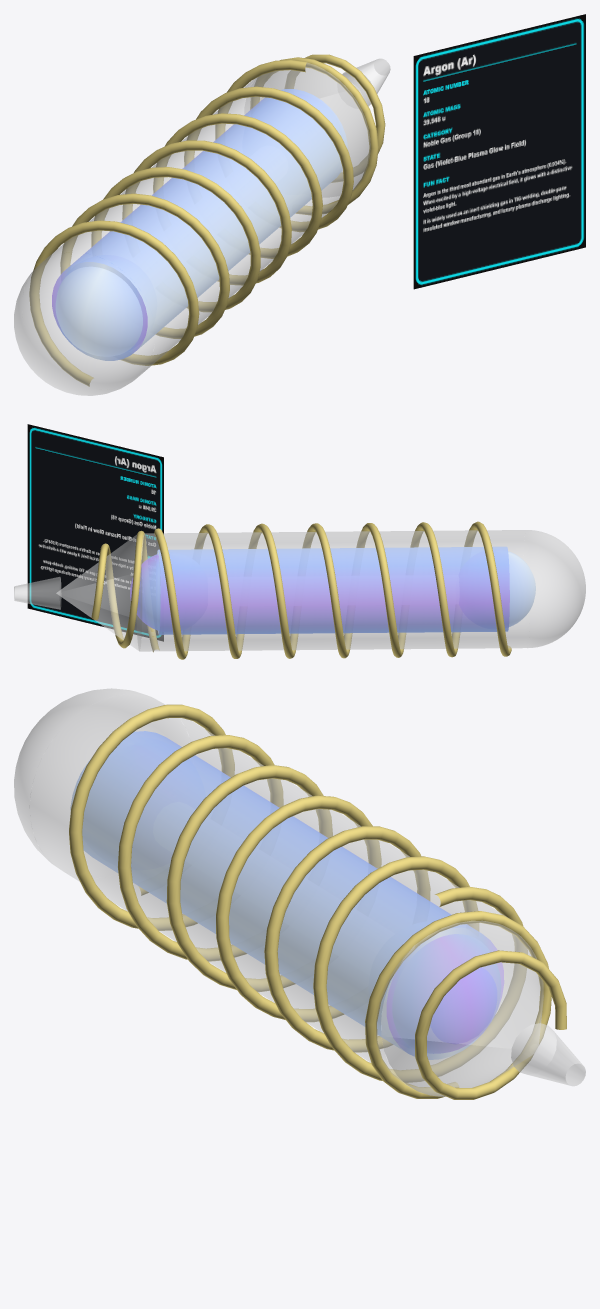
Rendered from argon.glb.
3 views of the same model, one above another, from view 1: azimuth 30°, elevation 25°; view 2: azimuth 150°, elevation 25°; view 3: azimuth 270°, elevation 25° (orthographic). The views are drawn at different scales.
Visible parts, largest first — view 1: Mesh_10, Mesh_0, Mesh_4, Mesh_7, Mesh_1, Mesh_6.001, Mesh_2, Mesh_8, Mesh_3; view 2: Mesh_0, Mesh_4, Mesh_10, Mesh_7, Mesh_1, Mesh_2, Mesh_8, Mesh_6, Mesh_6.001, Mesh_3; view 3: Mesh_0, Mesh_4, Mesh_7, Mesh_2, Mesh_1, Mesh_8, Mesh_6, Mesh_3.
Boxes of the visible parts, x1,y1,x2,y2 form: Mesh_10: (413, 14, 585, 289); Mesh_0: (22, 62, 370, 389); Mesh_4: (52, 89, 347, 360); Mesh_7: (29, 60, 353, 386); Mesh_1: (14, 252, 154, 395); Mesh_6.001: (55, 266, 142, 356); Mesh_2: (244, 68, 368, 197); Mesh_8: (250, 54, 385, 215); Mesh_3: (342, 58, 390, 106); Mesh_0: (140, 530, 529, 651); Mesh_4: (157, 546, 509, 634); Mesh_10: (27, 424, 163, 641); Mesh_7: (154, 521, 511, 659); Mesh_1: (524, 530, 585, 647); Mesh_2: (56, 535, 142, 651); Mesh_8: (91, 530, 159, 652); Mesh_6: (130, 554, 160, 630); Mesh_6.001: (508, 551, 535, 626); Mesh_3: (14, 577, 61, 609); Mesh_0: (30, 694, 506, 1096); Mesh_4: (70, 731, 503, 1059); Mesh_7: (69, 704, 527, 1082); Mesh_2: (381, 921, 543, 1096); Mesh_1: (14, 688, 190, 877); Mesh_8: (365, 911, 566, 1099); Mesh_6: (392, 934, 500, 1053); Mesh_3: (511, 1023, 585, 1086).
Bounding box in the file's own units: 2.95 × 1.05 × 1.78.
5 materials, 2 textured.
